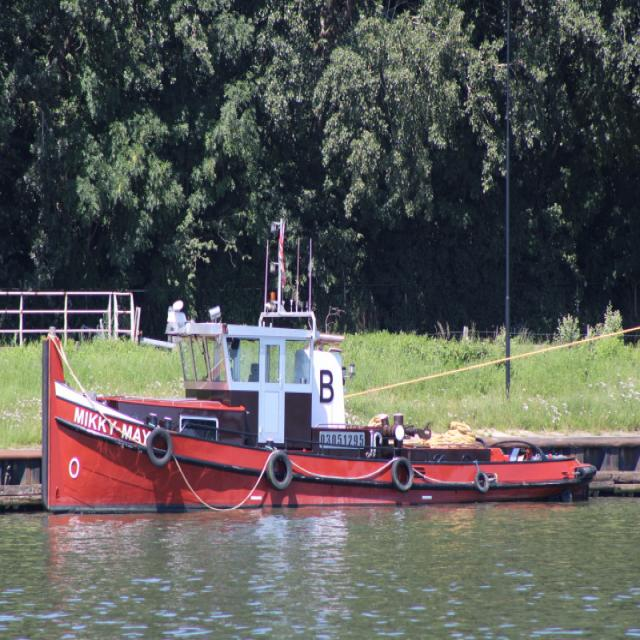tugboat: (36, 289, 600, 532)
